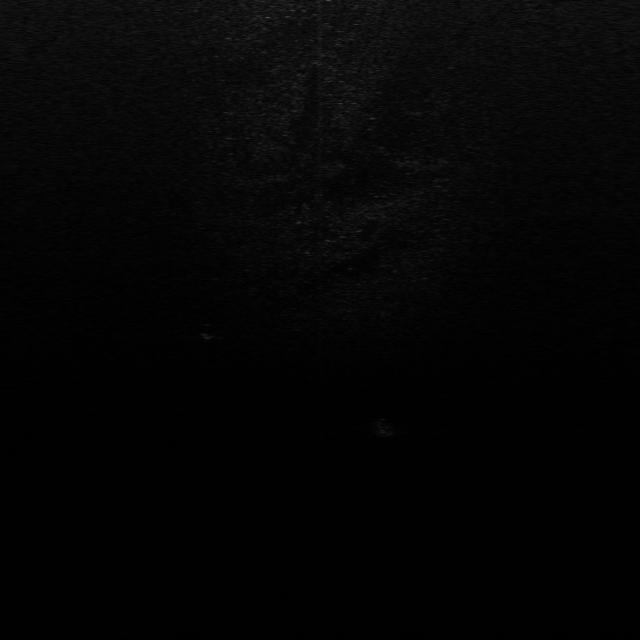ball: (369, 416, 402, 438)
circle cage: (196, 322, 222, 341)
